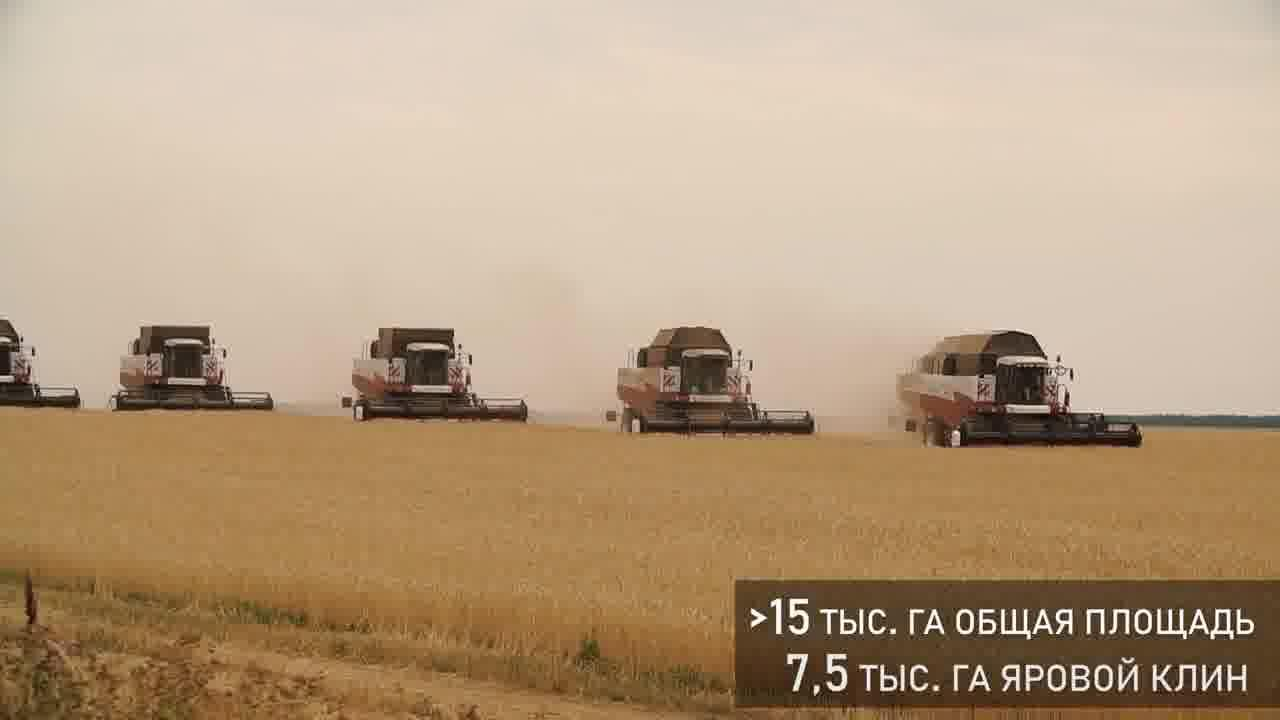combine harvester: (885, 314, 1148, 446), (605, 316, 825, 439), (341, 321, 532, 423), (111, 306, 288, 412), (0, 306, 89, 417)
